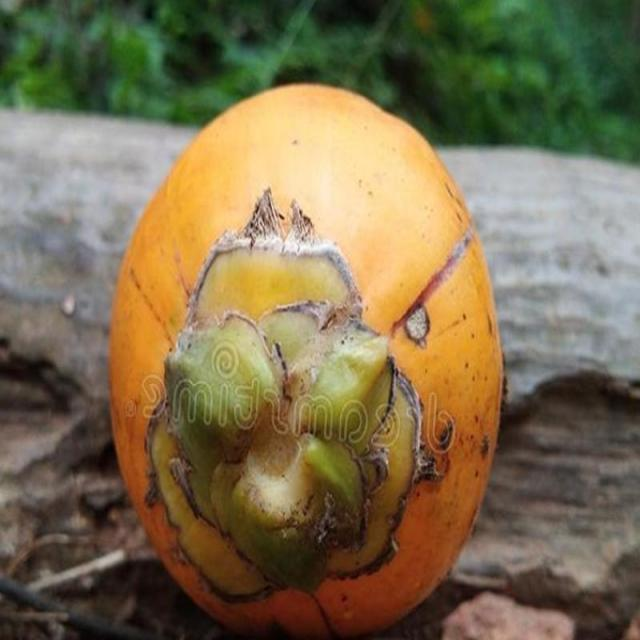good: (110, 85, 506, 639)
